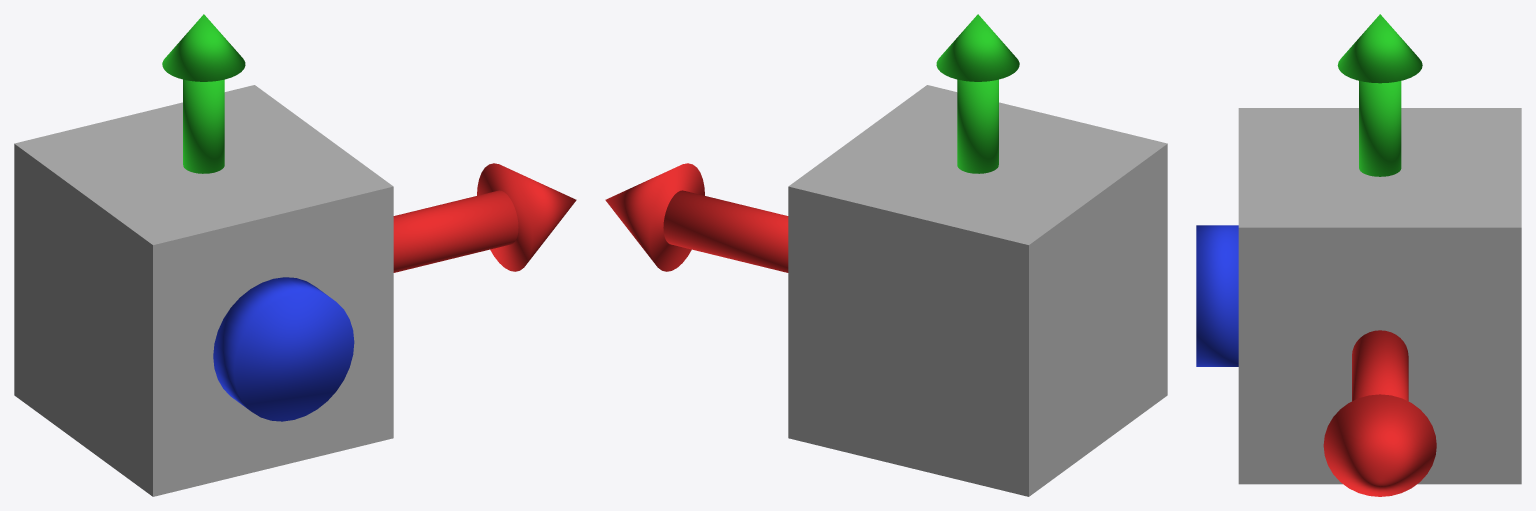
File: orientation_cube_zup.glb
3 renders of one model, left to right at view 1: azimuth 30°, elevation 25°; view 2: azimuth 150°, elevation 25°; view 3: azimuth 270°, elevation 25°, orthographic.
Visible parts, largest first — view 1: orientation_cube; view 2: orientation_cube; view 3: orientation_cube.
Part boxes in pixels (bbox=[...]): orientation_cube: bbox=[14, 14, 576, 496]; orientation_cube: bbox=[605, 14, 1167, 496]; orientation_cube: bbox=[1196, 14, 1521, 496].
Bounding box in the file's own units: 0.41 × 0.32 × 0.23.
